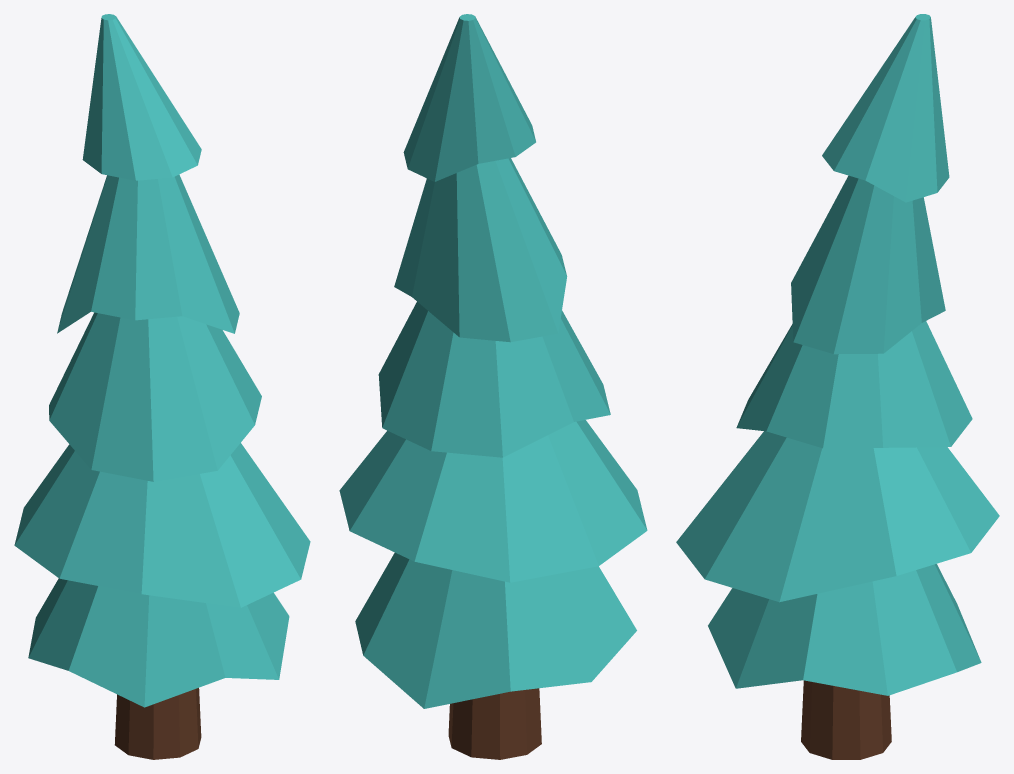
The picture shows the model from 3 angles, left to right: view 1: azimuth 30°, elevation 25°; view 2: azimuth 150°, elevation 25°; view 3: azimuth 270°, elevation 25°; orthographic projection. The views are drawn at different scales.
Parts seen in each view (by area): view 1: t6-cyan; view 2: t6-cyan; view 3: t6-cyan.
Part boxes in pixels (x1,y1,x2,y2): t6-cyan: [14, 14, 310, 759]; t6-cyan: [339, 14, 647, 759]; t6-cyan: [676, 14, 999, 759].
Bounding box in the file's own units: 303 × 846 × 346.
